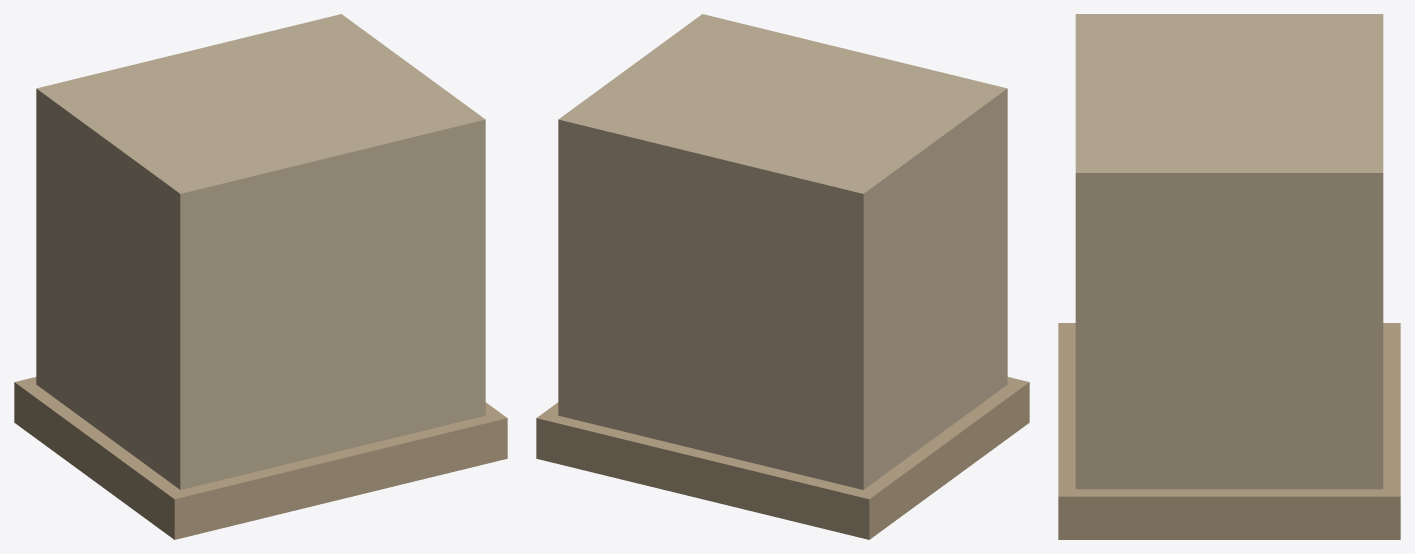
The model's file is 1778-Furniture-interiors-pallet.glb.
3 renders of one model, left to right at view 1: azimuth 30°, elevation 25°; view 2: azimuth 150°, elevation 25°; view 3: azimuth 270°, elevation 25°, orthographic. The views are drawn at different scales.
Visible parts, largest first — view 1: Furniture (interiors)/pallet; view 2: Furniture (interiors)/pallet; view 3: Furniture (interiors)/pallet.
Part boxes in pixels (x1,y1,x2,y2): Furniture (interiors)/pallet: [14, 14, 507, 539]; Furniture (interiors)/pallet: [536, 14, 1029, 539]; Furniture (interiors)/pallet: [1058, 14, 1400, 539].
Bounding box in the file's own units: 1.2 × 1.16 × 1.
